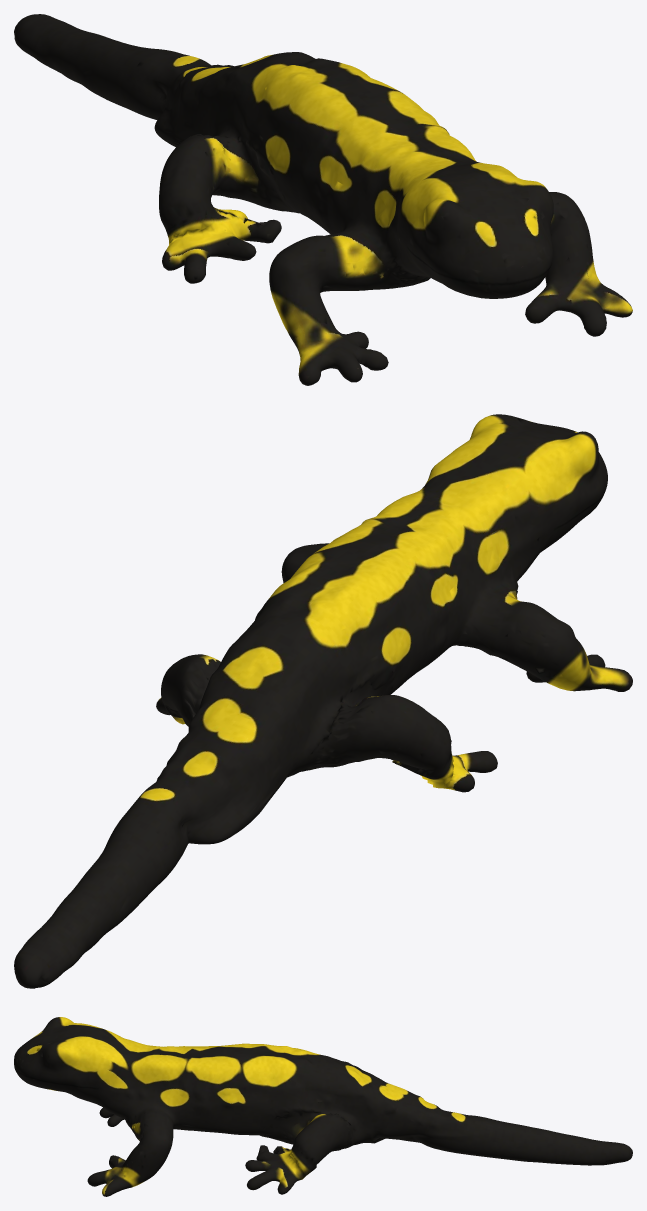
File: firesal.glb
3 views of the same model, one above another, from view 1: azimuth 30°, elevation 25°; view 2: azimuth 150°, elevation 25°; view 3: azimuth 270°, elevation 25° (orthographic). The views are drawn at different scales.
Visible parts, largest first — view 1: firesal; view 2: firesal; view 3: firesal.
Part boxes in pixels (bbox=[...]): firesal: bbox=[14, 14, 632, 385]; firesal: bbox=[14, 414, 632, 988]; firesal: bbox=[14, 1017, 632, 1196].
Size of the model in its own units: 0.0573 by 0.0358 by 0.16.
Materials: 1 (1 with a texture image).
